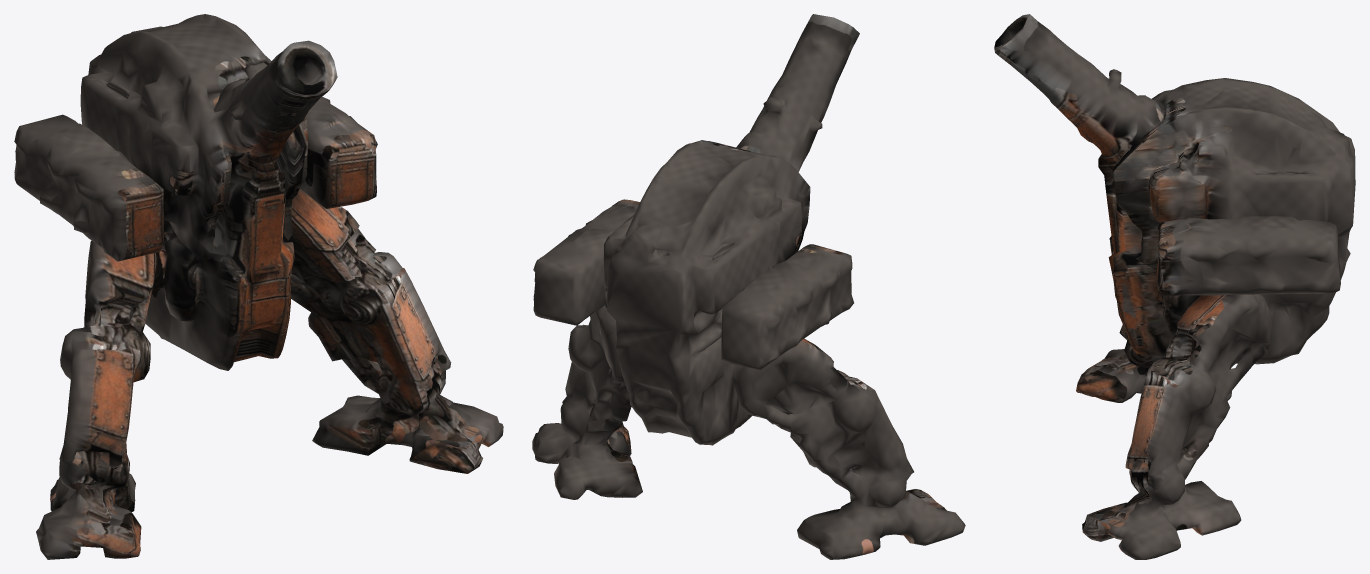
File: stovepipe_lod1.glb
The picture shows the model from 3 angles, left to right: view 1: azimuth 30°, elevation 25°; view 2: azimuth 150°, elevation 25°; view 3: azimuth 270°, elevation 25°; orthographic projection. The views are drawn at different scales.
Parts seen in each view (by area): view 1: geometry_0; view 2: geometry_0; view 3: geometry_0.
Part boxes in pixels (left/top/right/bottom): geometry_0: left=14, top=14, right=503, bottom=559; geometry_0: left=532, top=14, right=965, bottom=559; geometry_0: left=994, top=14, right=1355, bottom=559.
Bounding box in the file's own units: 1.98 × 2 × 1.52.
Materials: 1 (1 with a texture image).
